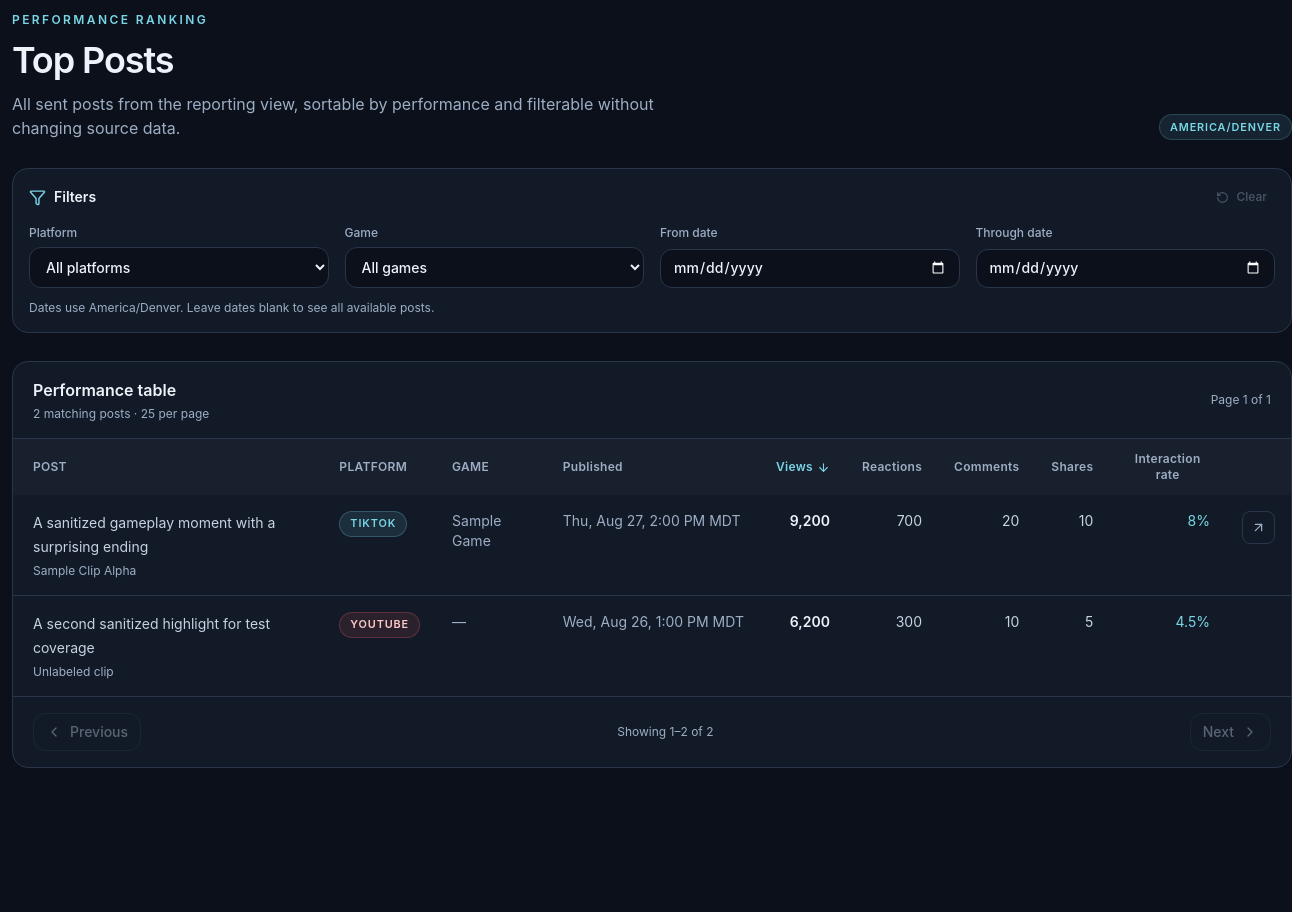
Test: TopPostsView › filters by platform and keeps the controls read-only
Select "youtube" in the dropdown labelled "Platform": (179, 268) [29,247,328,288]
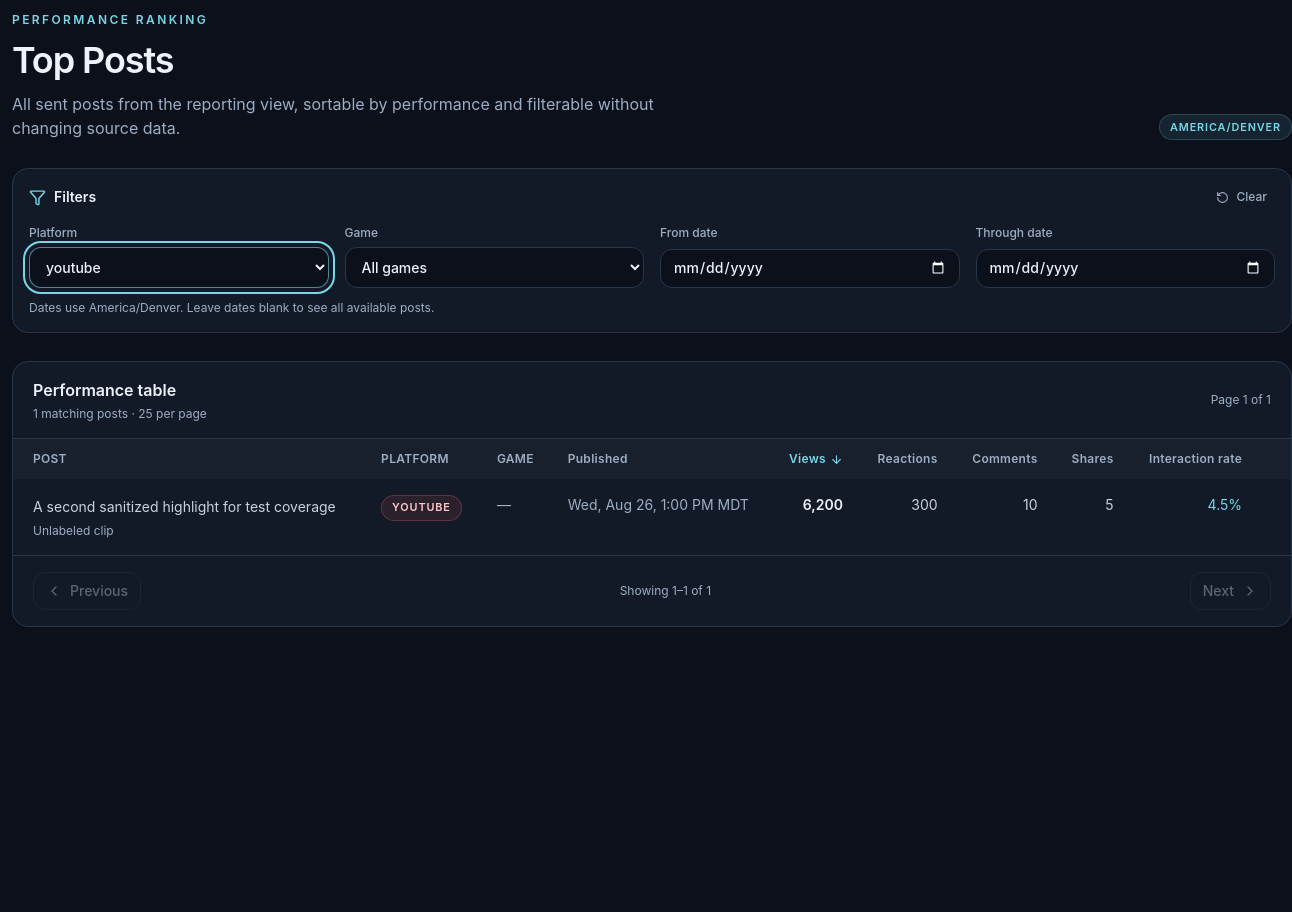
Check: the text "A second sanitized highlight for test coverage" is shown, box [33,495,345,519]
Check: the text "9,200" is gone
